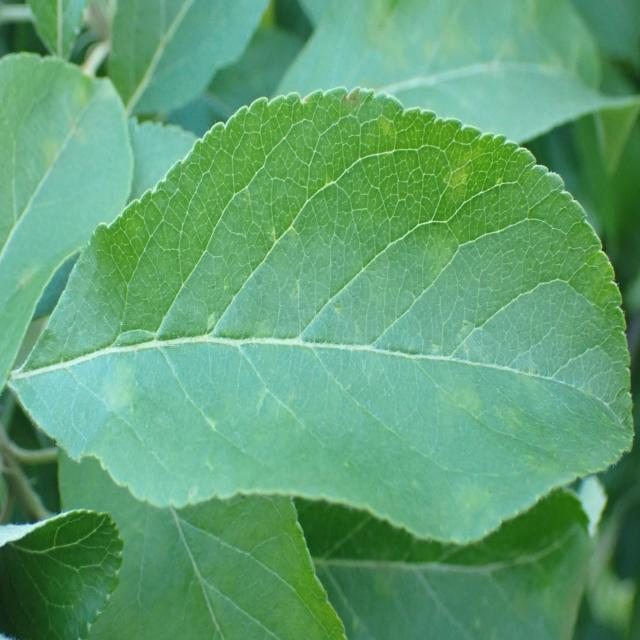scab: (59, 85, 594, 463)
